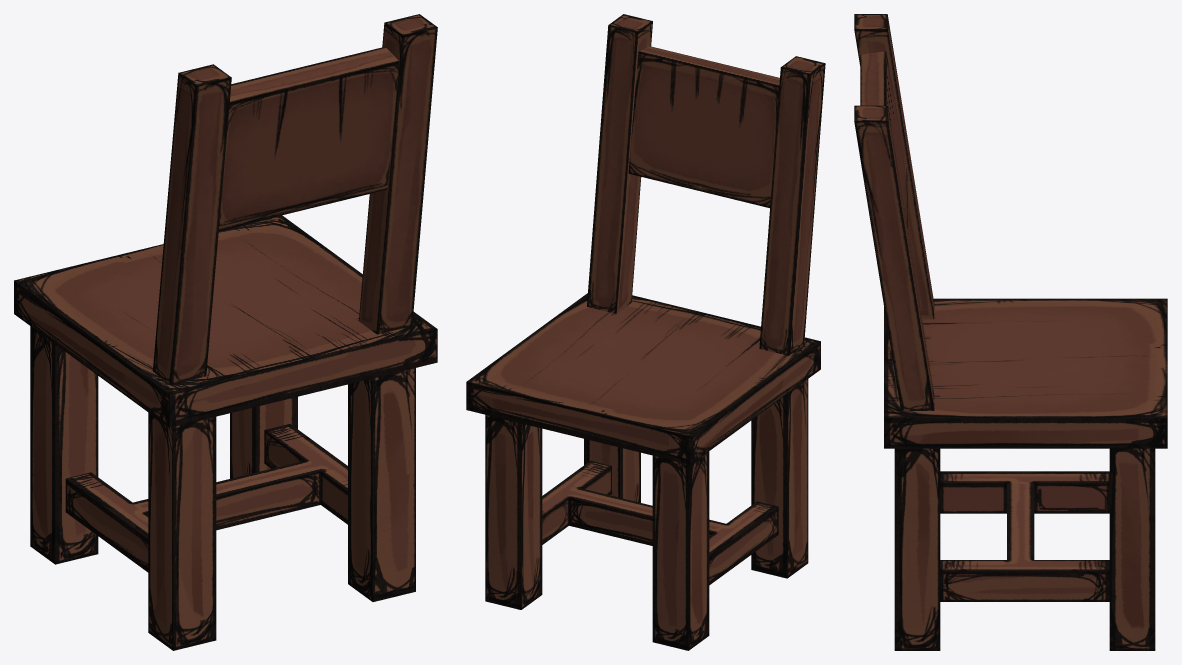
Rendered from chair.fbx.
3 views of the same model, side by side, from view 1: azimuth 30°, elevation 25°; view 2: azimuth 150°, elevation 25°; view 3: azimuth 270°, elevation 25° (orthographic). The views are drawn at different scales.
Parts seen in each view (by area): view 1: taburet.002; view 2: taburet.002; view 3: taburet.002.
Boxes of the visible parts, x1,y1,x2,y2 form: taburet.002: (14,14,437,650); taburet.002: (466,14,825,650); taburet.002: (854,14,1167,650).
Size of the model in its own units: 0.83 by 1.72 by 0.922.
Materials: 2 (2 with a texture image).
